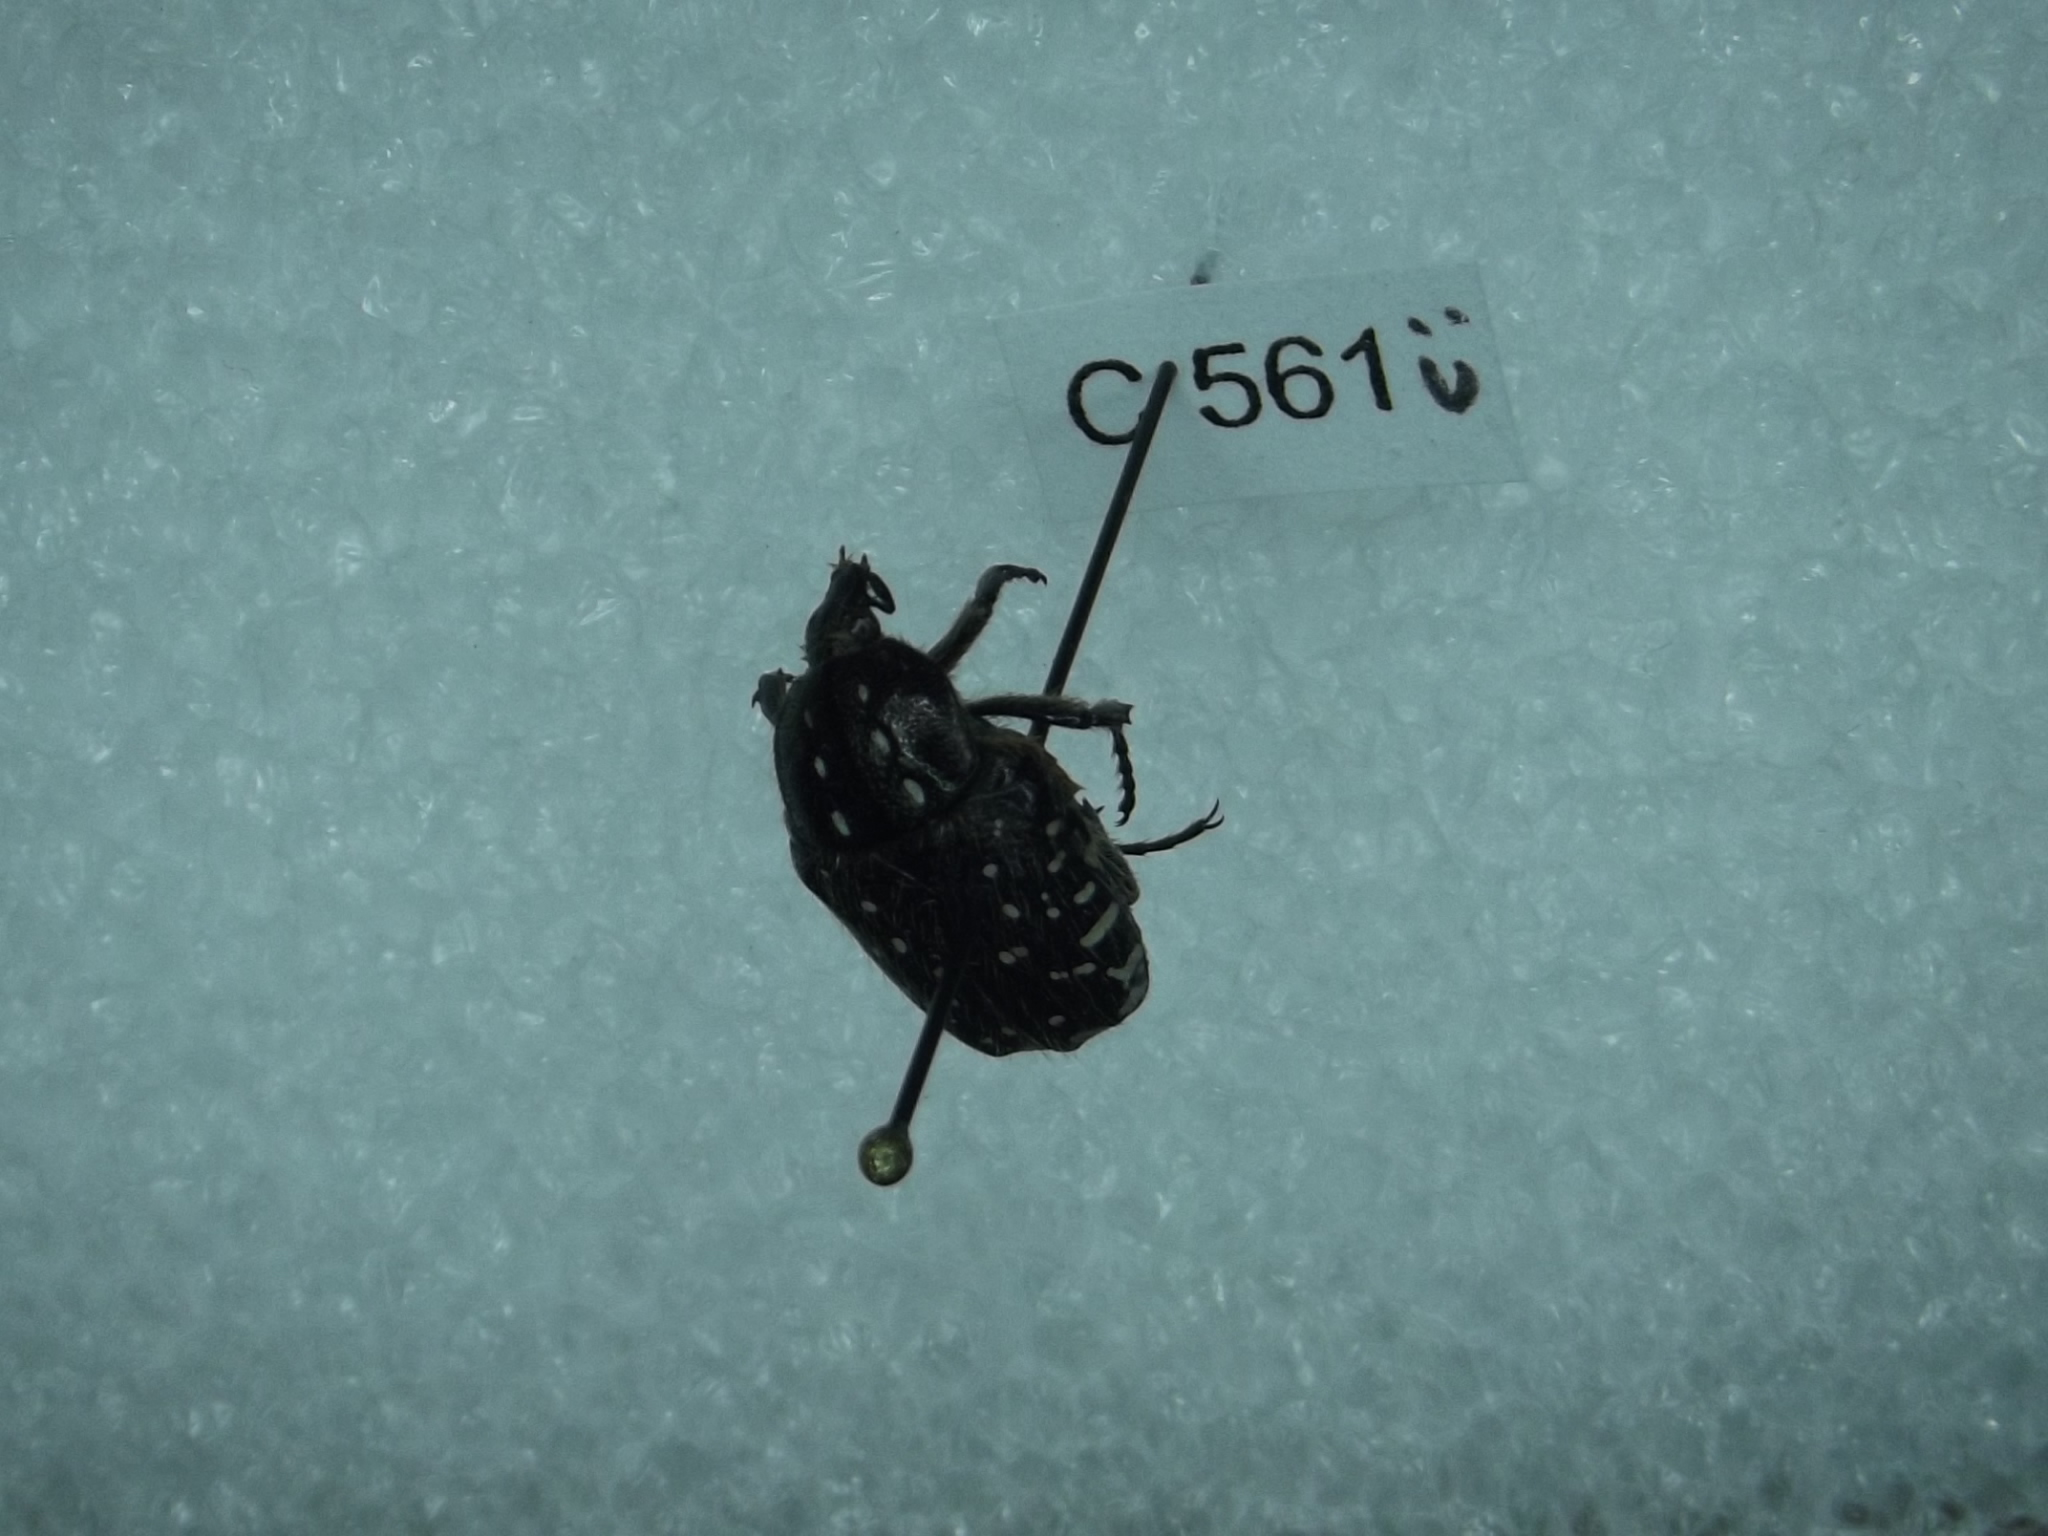Oxythyrea_funesta: (729, 537, 1238, 1087)
